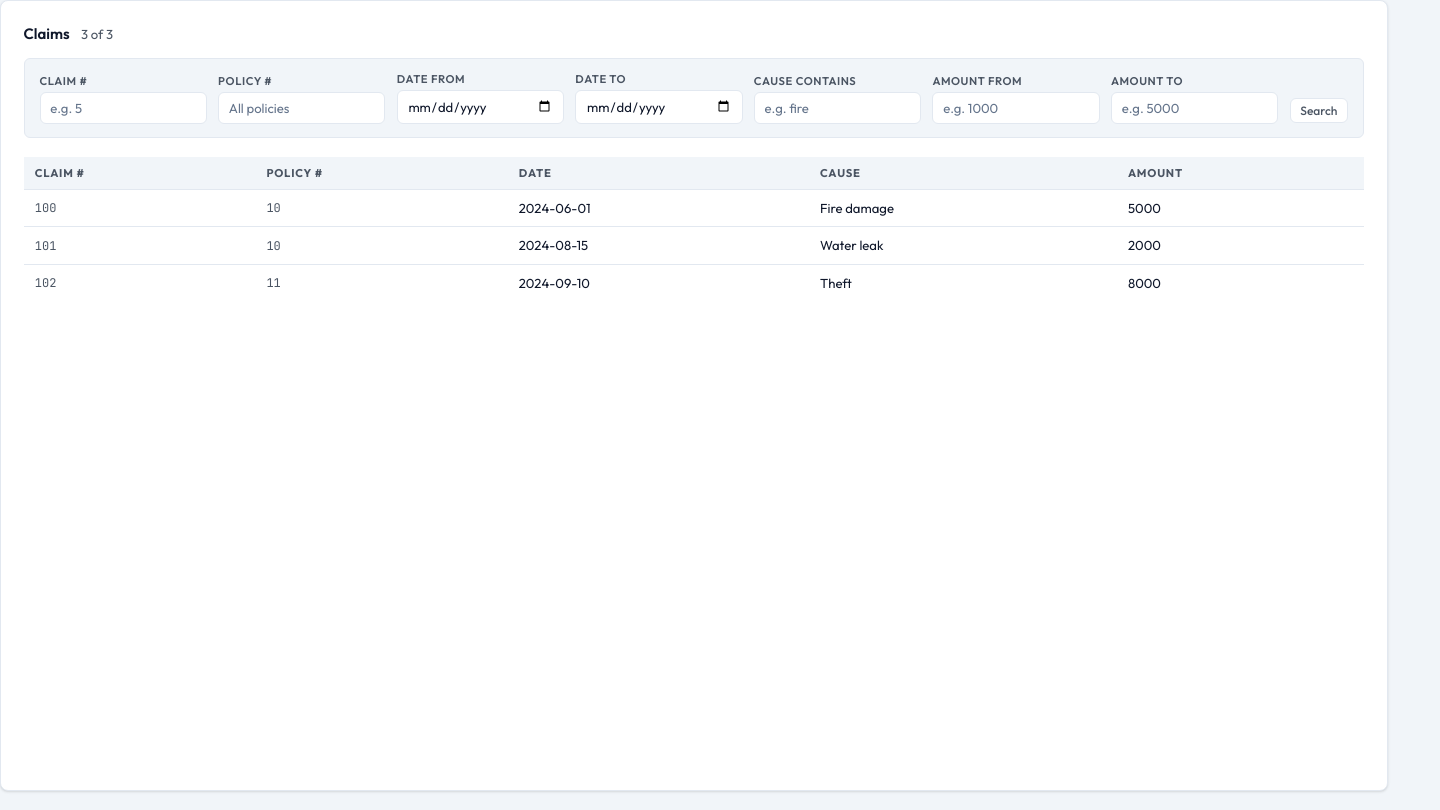
ClaimList – detail panel › clicking Close dismisses the panel
Click the text "Fire damage": [963, 208] box [809,189,1117,226]
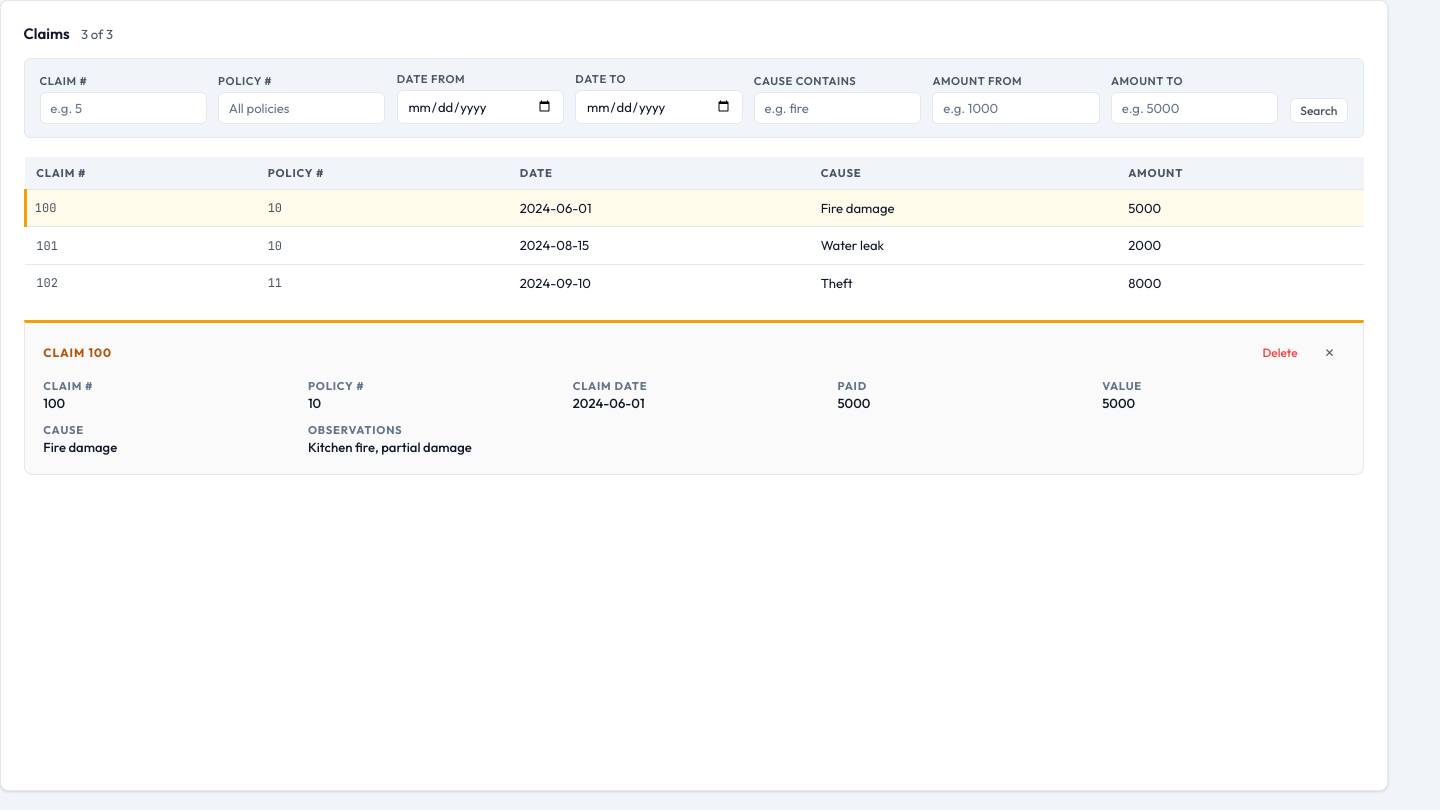
Click the button "✕": [1330, 353] box [1315,342,1344,364]
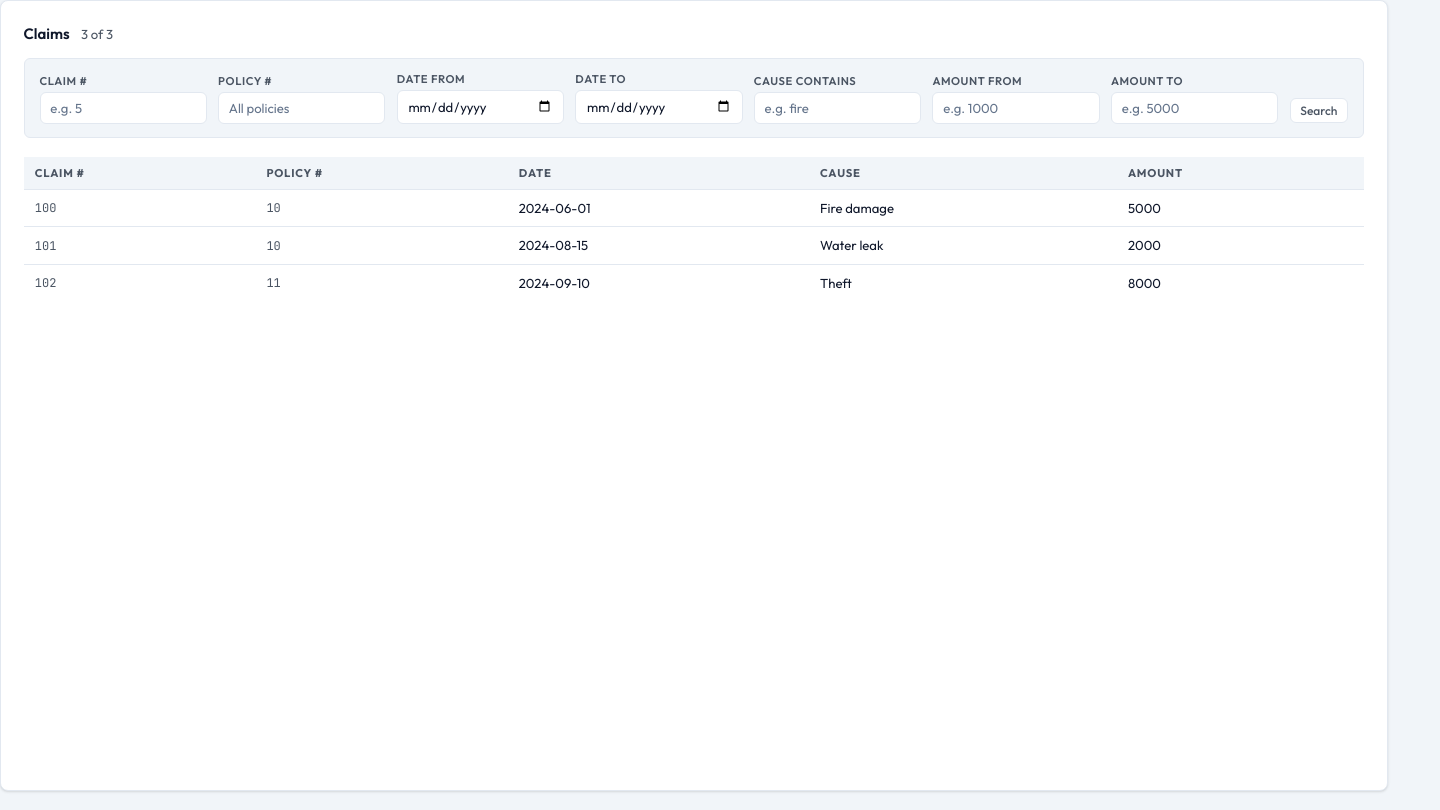
Expected: the text "Claim 100" is gone
